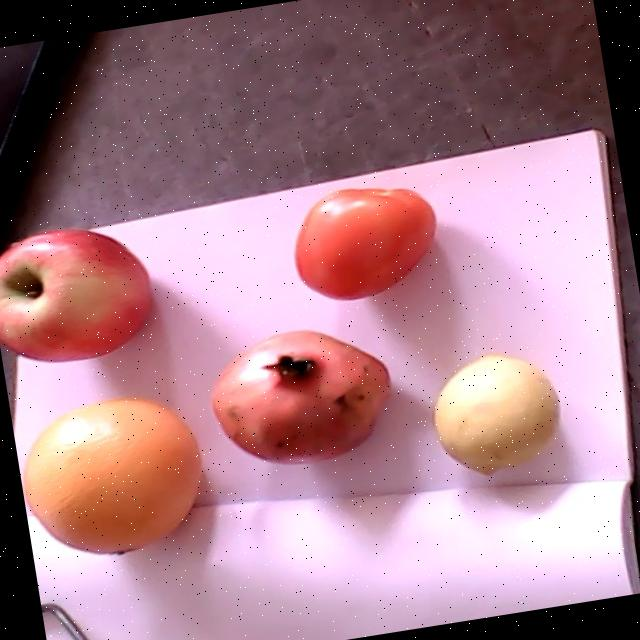apple: (0, 226, 152, 362)
lemon: (434, 353, 561, 473)
orange: (22, 396, 202, 554)
pomegranate: (211, 329, 390, 463)
tomato: (295, 187, 436, 299)
